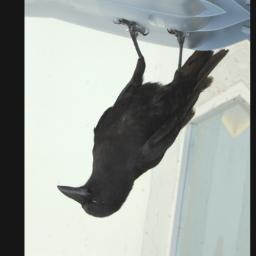Crow: (52, 9, 231, 236)
